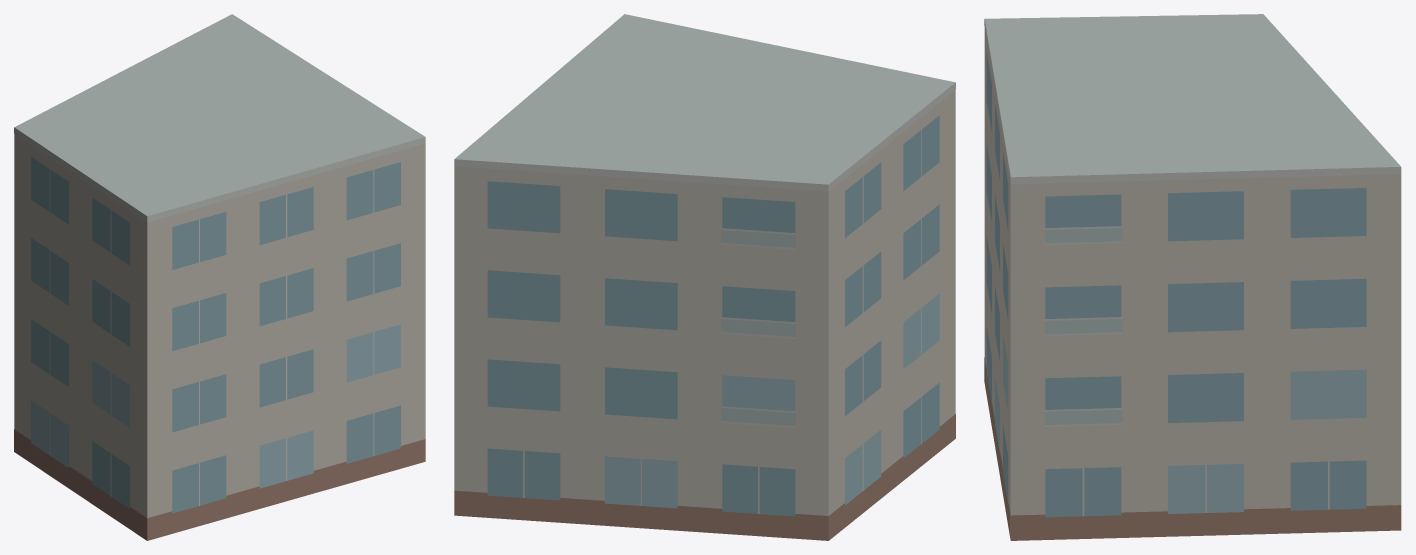
Rendered from survey-upis-32923582.glb.
3 views of the same model, side by side, from view 1: azimuth 30°, elevation 25°; view 2: azimuth 150°, elevation 25°; view 3: azimuth 270°, elevation 25° (orthographic). The views are drawn at different scales.
Visible parts, largest first — view 1: survey-upis-32923582.tmp; view 2: survey-upis-32923582.tmp; view 3: survey-upis-32923582.tmp.
Boxes of the visible parts, x1,y1,x2,y2 form: survey-upis-32923582.tmp: (14,14,425,540); survey-upis-32923582.tmp: (454,14,955,540); survey-upis-32923582.tmp: (984,14,1401,540).
Size of the model in its own units: 11.97 by 12.42 by 12.91.
